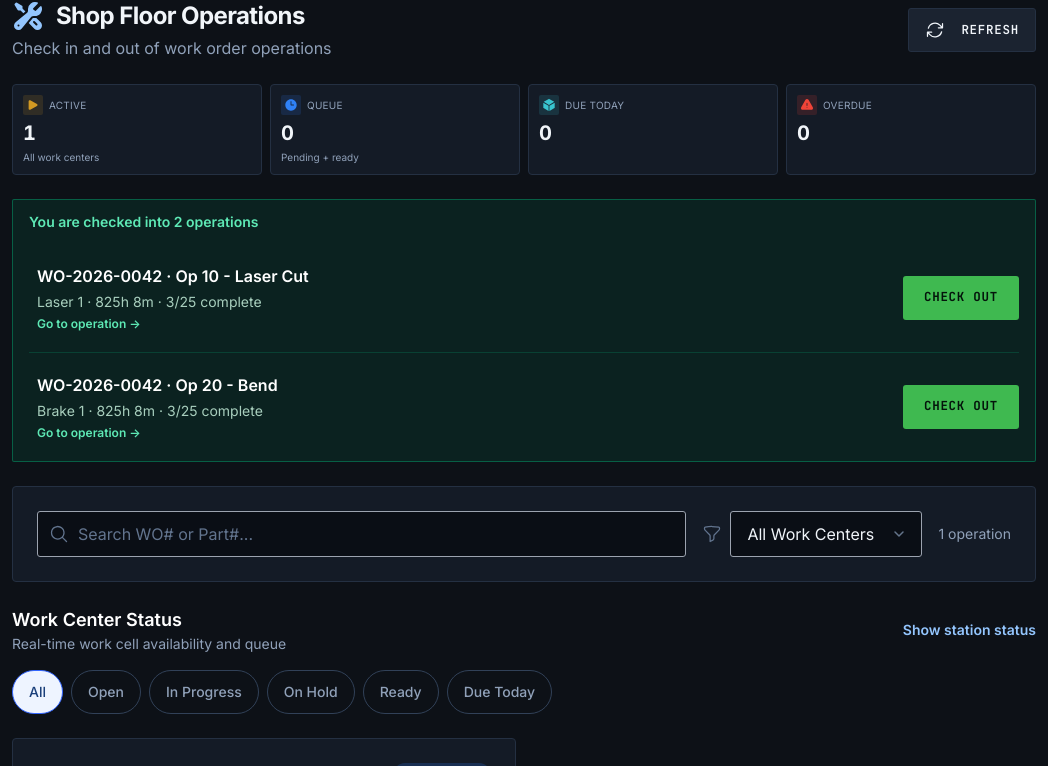
it: checked-in operation shortcuts › honors a later tap on a visible job while the first shortcut is still loading
Click the button with aria-label "Go to WO-2026-0042, Op 20 - Bend".
click(100, 384)  # box left=29, top=364, right=891, bottom=448
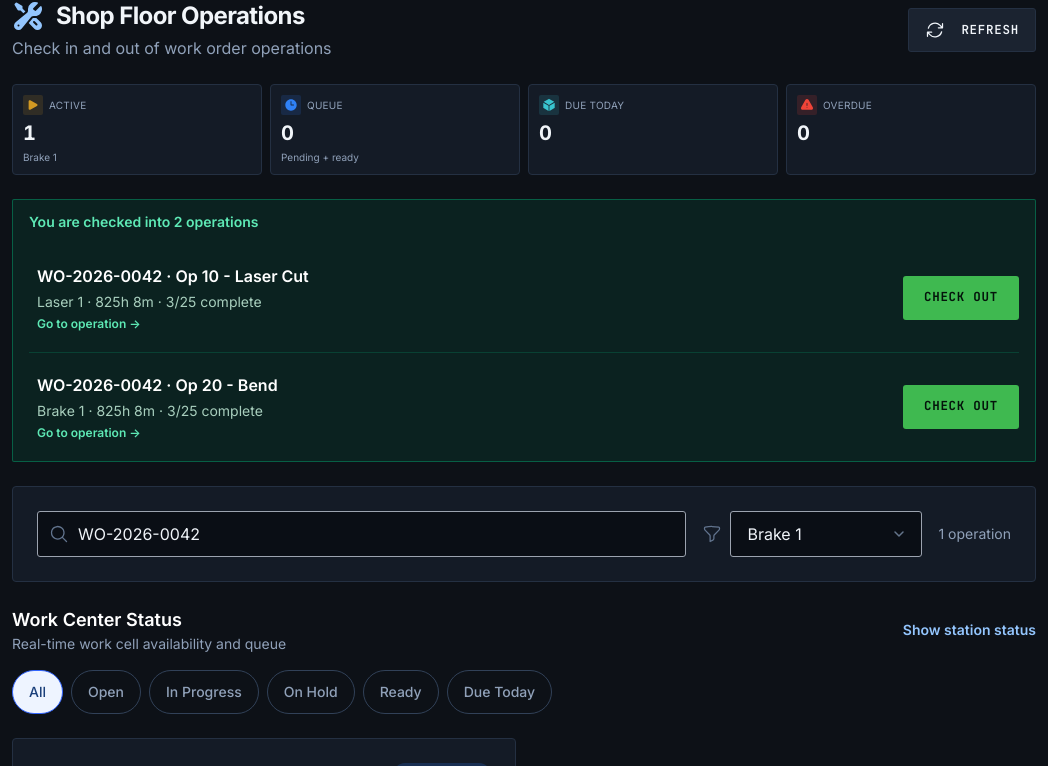
The old queue still shows Laser Cut while Bend's new queue is loading.
Click the button with aria-label "Go to WO-2026-0042, Op 10 - Laser Cut".
click(100, 276)  # box left=29, top=256, right=891, bottom=340
(page scrolled)
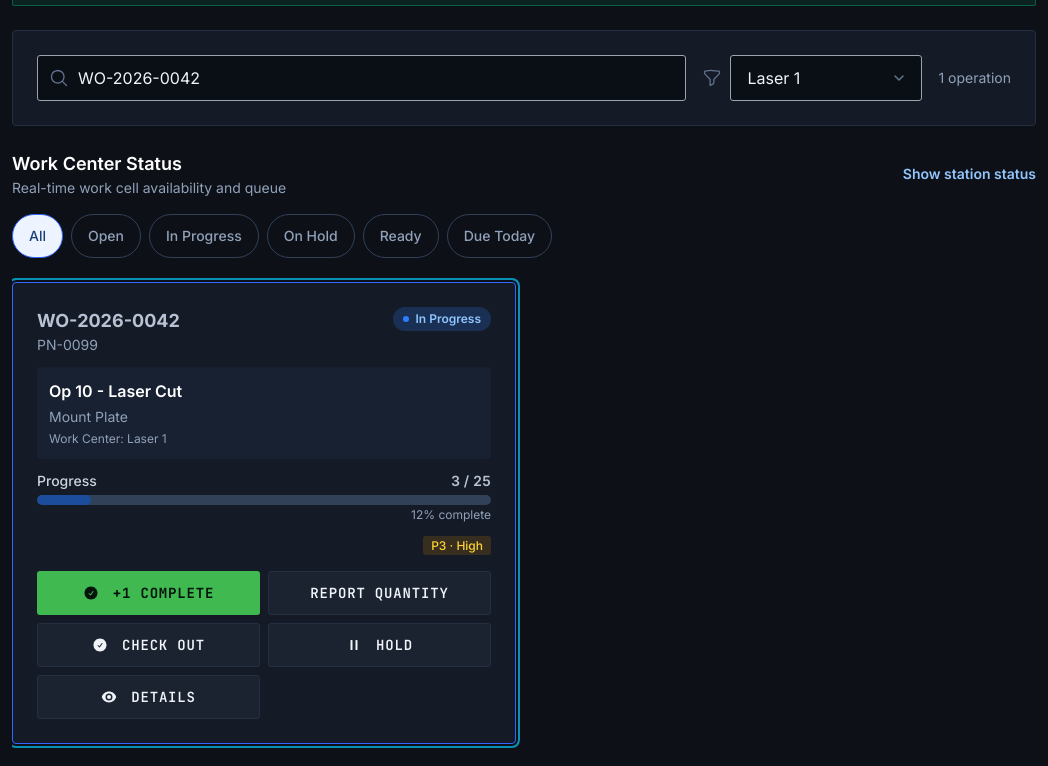
Result: the dropdown showing "Laser 1" is shown at left=730, top=54, right=922, bottom=100
